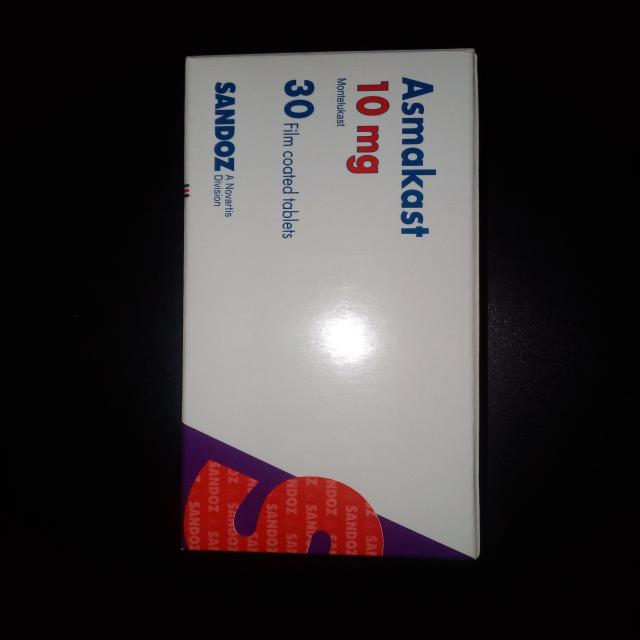Medicine: (172, 42, 488, 566)
